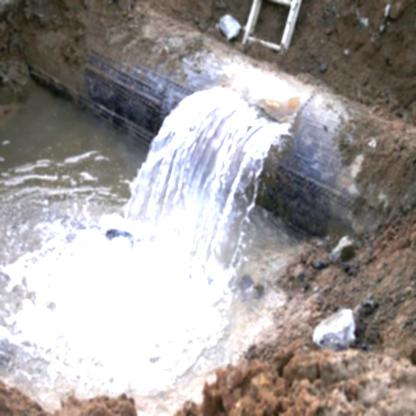burst: (196, 82, 292, 152)
